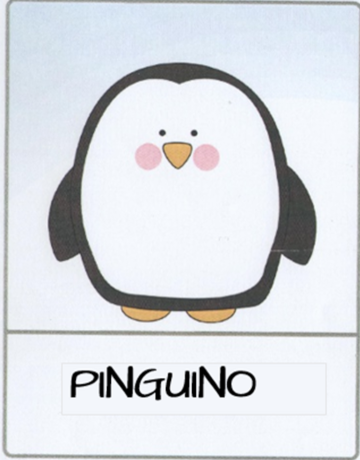pinguino: (13, 20, 342, 433)
